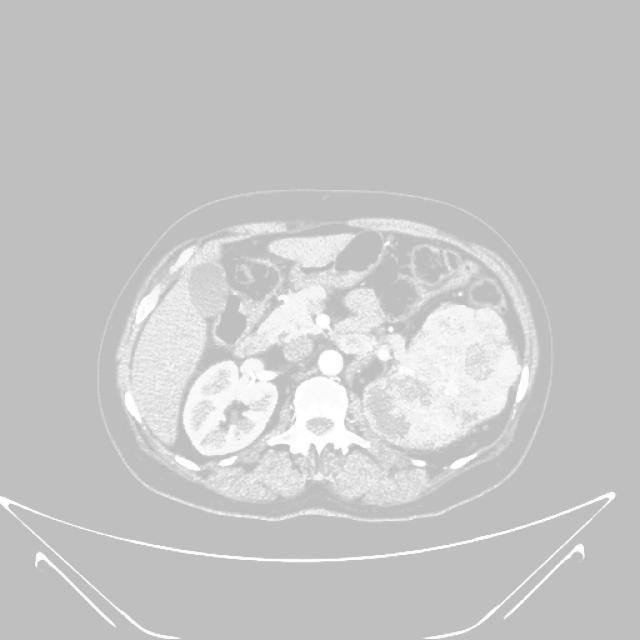TUMOR: (164, 309, 498, 481)
